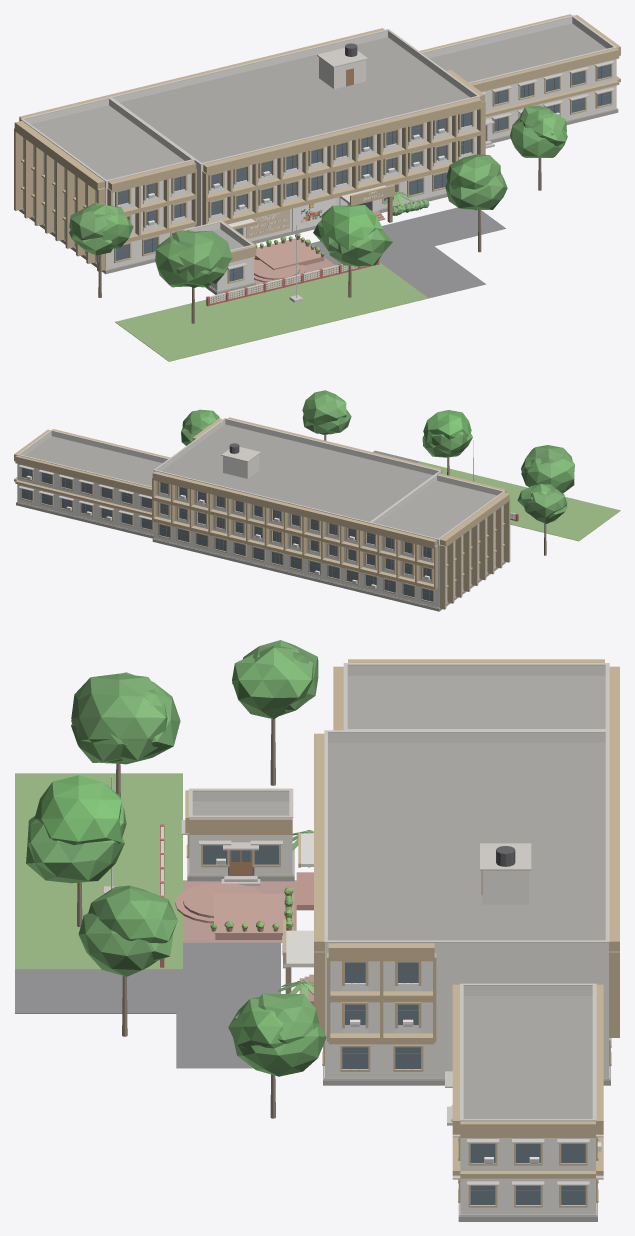
Rendered from iit_kgp_ece_dept.glb.
3 views of the same model, one above another, from view 1: azimuth 30°, elevation 25°; view 2: azimuth 150°, elevation 25°; view 3: azimuth 270°, elevation 25° (orthographic). The views are drawn at different scales.
Parts seen in each view (by area): view 1: Main Block (ECE + Senate Hall), Landscape + Boundary Wall, East Annex, Front Annex; view 2: Main Block (ECE + Senate Hall), East Annex, Landscape + Boundary Wall; view 3: Main Block (ECE + Senate Hall), Landscape + Boundary Wall, East Annex, Front Annex.
Part boxes in pixels (x1,y1,x2,y2): Main Block (ECE + Senate Hall): (14,28,485,274); Landscape + Boundary Wall: (69,105,567,361); East Annex: (419,14,620,148); Front Annex: (182,220,256,294); Main Block (ECE + Senate Hall): (152,417,510,611); East Annex: (14,429,170,538); Landscape + Boundary Wall: (181,390,620,555); Main Block (ECE + Senate Hall): (282,659,619,1085); Landscape + Boundary Wall: (15,640,326,1118); East Annex: (445,983,603,1221); Front Annex: (181,788,294,885).
Size of the model in its own units: 84.37 by 15.5 by 46.85.
